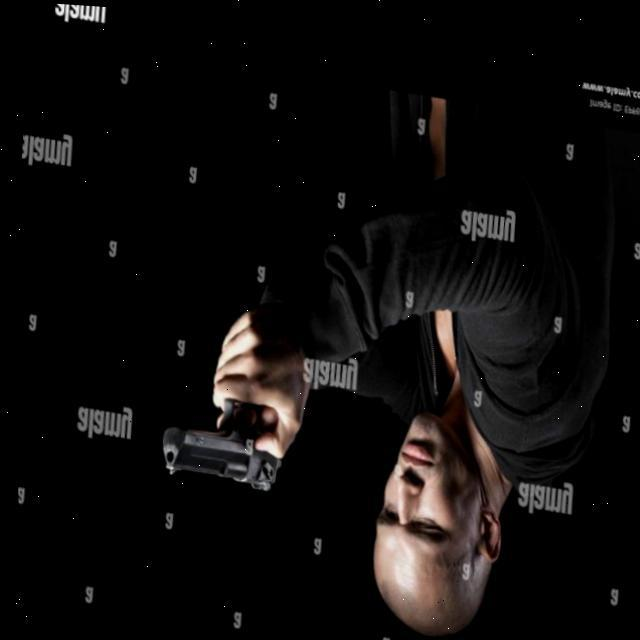gun: (147, 316, 296, 492)
